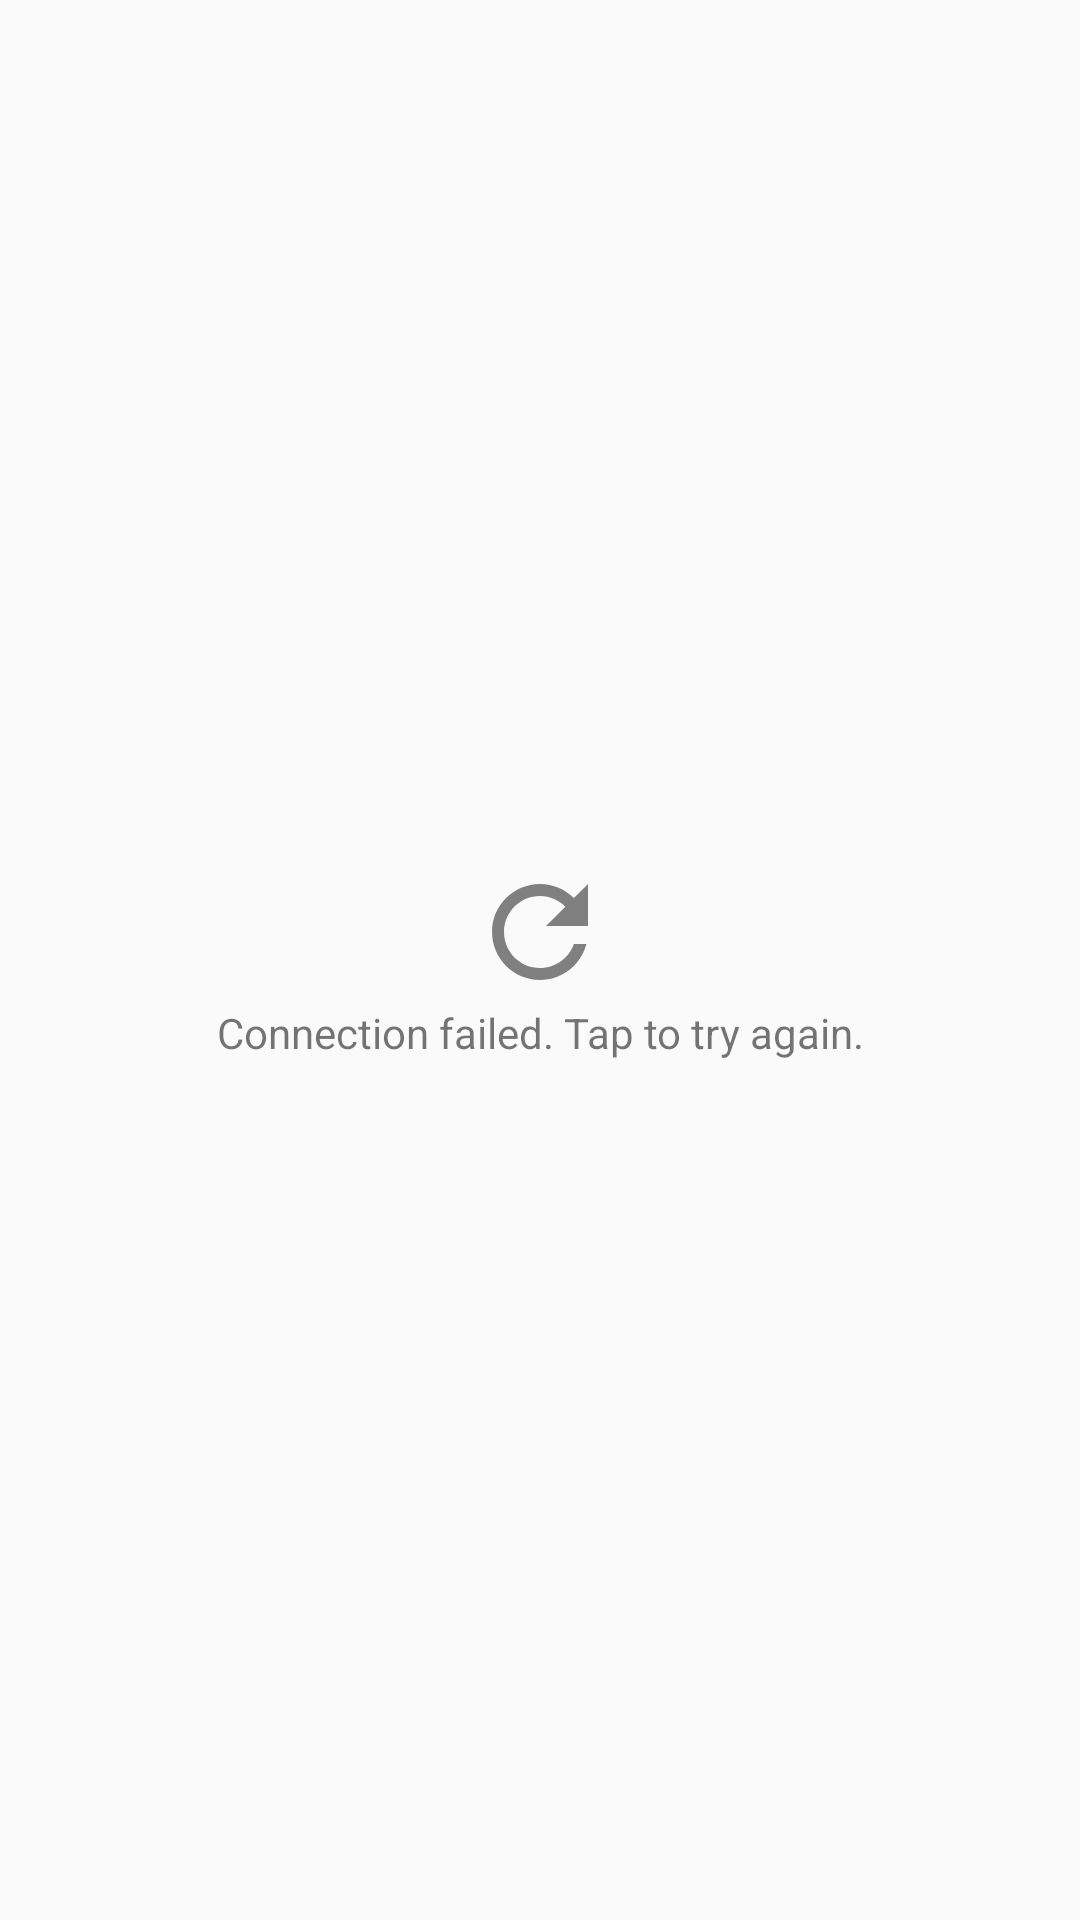

Icons on this 1080x1920 Android screen, each with the point to tap as point (x, y):
refresh: point (540, 932)
